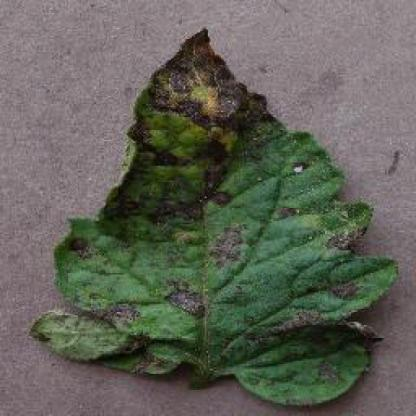Tomato_Blight: (31, 29, 395, 402)
